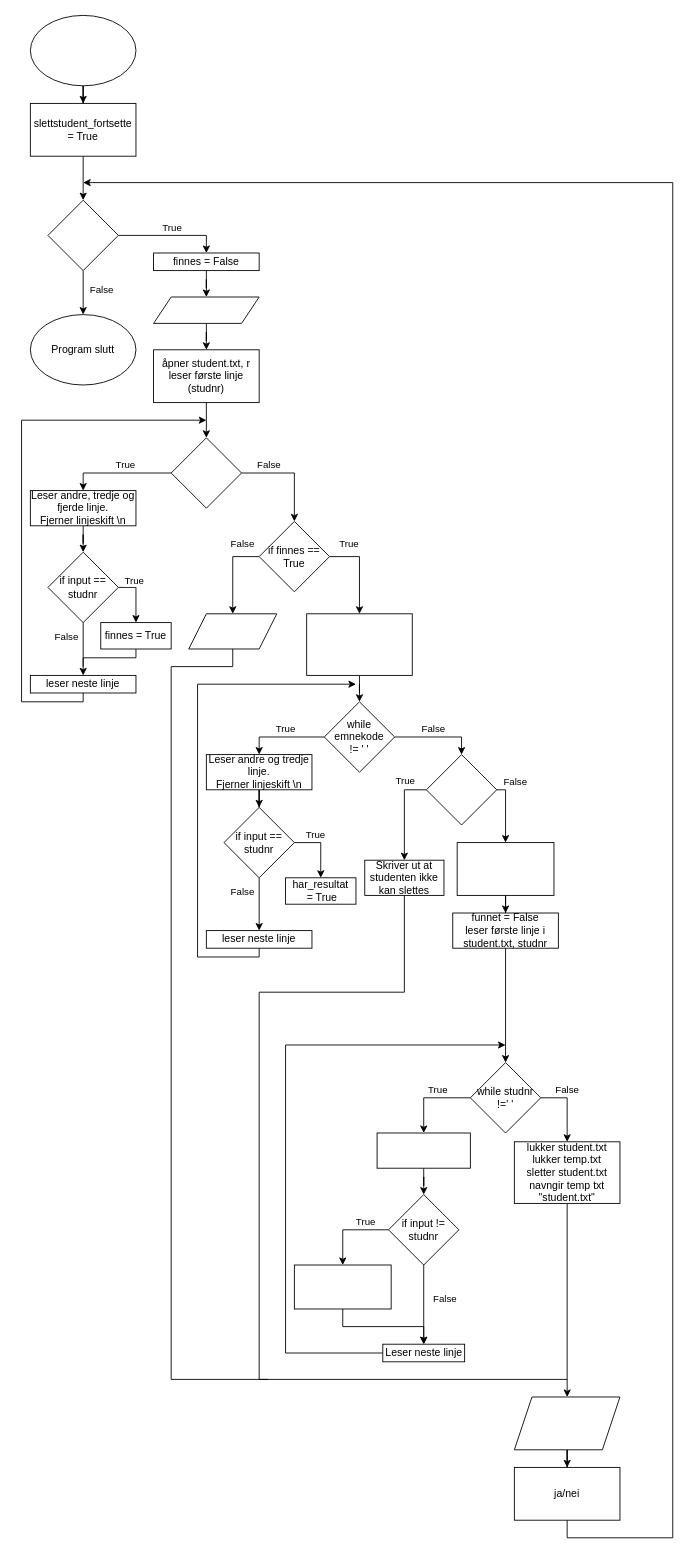
The diagram is 695 pixels wide and 1560 high, and some of its shapes have lost their labels. Each missing label, with the box of its shape:
har_resultat = False åpner eksamensresultat.txt,r leser første linje, emnekode: (306, 613, 412, 675)
if har_resultat == True: (425, 754, 497, 825)
Leser andre, tredje og fjerde linje Fjerner linjeskift \n: (376, 1132, 470, 1168)
lukker eksamensresultat.txt Åpner student.txt, r Åpner temp.txt, w: (456, 842, 554, 895)
Program start slettstudent(): (29, 15, 136, 86)
Skriver inn studnr, fornavn, etternavn og studie i temp.txt: (293, 1264, 391, 1309)
Skriver ut at studenten ikke eksisterer: (188, 613, 277, 649)
Spør bruker om programmet skal kjøres på nytt: (513, 1396, 620, 1450)
spør om studentnummer input: (153, 296, 259, 323)
while input !=' ': (170, 437, 242, 508)
while slettstudent_fortsette: (47, 199, 118, 271)
